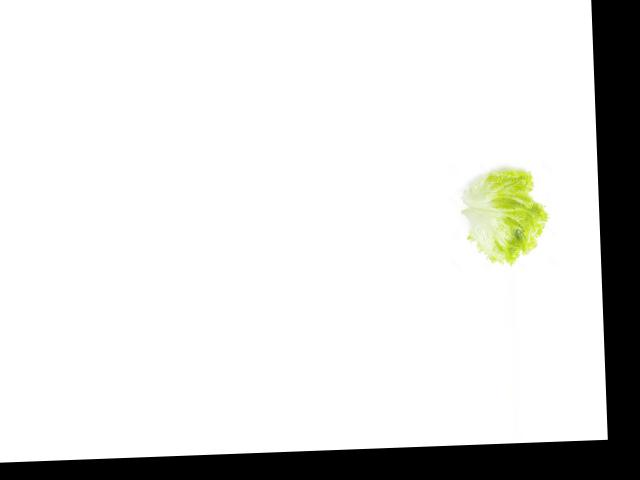lettuce: (457, 158, 546, 269)
